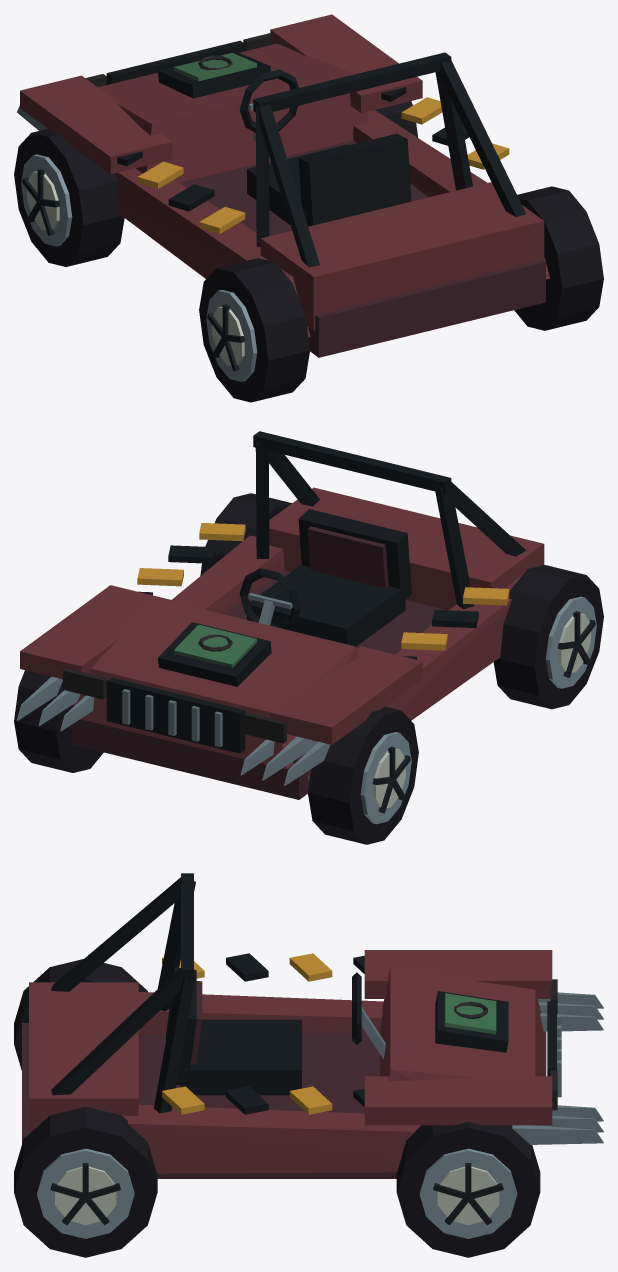
The model's file is kart.glb.
The picture shows the model from 3 angles, top to bottom: view 1: azimuth 30°, elevation 25°; view 2: azimuth 150°, elevation 25°; view 3: azimuth 270°, elevation 25°; orthographic projection. The views are drawn at different scales.
Visible parts, largest first — view 1: identity-jeep-jeep-offroad-frame, wheel-rear-left, wheel-front-left, identity-jeep-driver-cockpit, wheel-rear-right, identity-jeep-motif-hazard-stripes, identity-jeep-motif-scanner, wheel-front-right; view 2: identity-jeep-jeep-offroad-frame, identity-jeep-driver-cockpit, wheel-rear-left, wheel-front-left, identity-jeep-motif-hazard-stripes, identity-jeep-motif-scanner, identity-jeep-motif-claws, wheel-front-right, wheel-rear-right; view 3: identity-jeep-jeep-offroad-frame, wheel-rear-right, wheel-front-right, identity-jeep-driver-cockpit, identity-jeep-motif-hazard-stripes, identity-jeep-motif-claws, identity-jeep-motif-scanner, wheel-rear-left.
Part boxes in pixels (<box>): identity-jeep-jeep-offroad-frame: <box>20,14,549,357</box>; wheel-rear-left: <box>199,258,309,402</box>; wheel-front-left: <box>14,129,124,266</box>; identity-jeep-driver-cockpit: <box>239,69,411,226</box>; wheel-rear-right: <box>514,186,603,330</box>; identity-jeep-motif-hazard-stripes: <box>117,87,509,233</box>; identity-jeep-motif-scanner: <box>158,51,270,98</box>; wheel-front-right: <box>375,101,417,137</box>; identity-jeep-jeep-offroad-frame: <box>20,431,544,799</box>; identity-jeep-driver-cockpit: <box>239,509,411,646</box>; wheel-rear-left: <box>493,565,603,709</box>; wheel-front-left: <box>308,706,418,844</box>; identity-jeep-motif-hazard-stripes: <box>137,523,509,659</box>; identity-jeep-motif-scanner: <box>158,622,271,686</box>; identity-jeep-motif-claws: <box>16,676,330,785</box>; wheel-front-right: <box>14,670,103,772</box>; wheel-rear-right: <box>200,493,291,575</box>; identity-jeep-jeep-offroad-frame: <box>22,873,561,1178</box>; wheel-rear-right: <box>14,1106,157,1257</box>; wheel-front-right: <box>396,1122,540,1257</box>; identity-jeep-driver-cockpit: <box>166,967,385,1095</box>; identity-jeep-motif-hazard-stripes: <box>162,953,364,1114</box>; identity-jeep-motif-claws: <box>512,992,603,1144</box>; identity-jeep-motif-scanner: <box>435,991,508,1052</box>; wheel-rear-left: <box>14,959,147,1070</box>.
Size of the model in its own units: 2.13 by 1.39 by 2.96.
